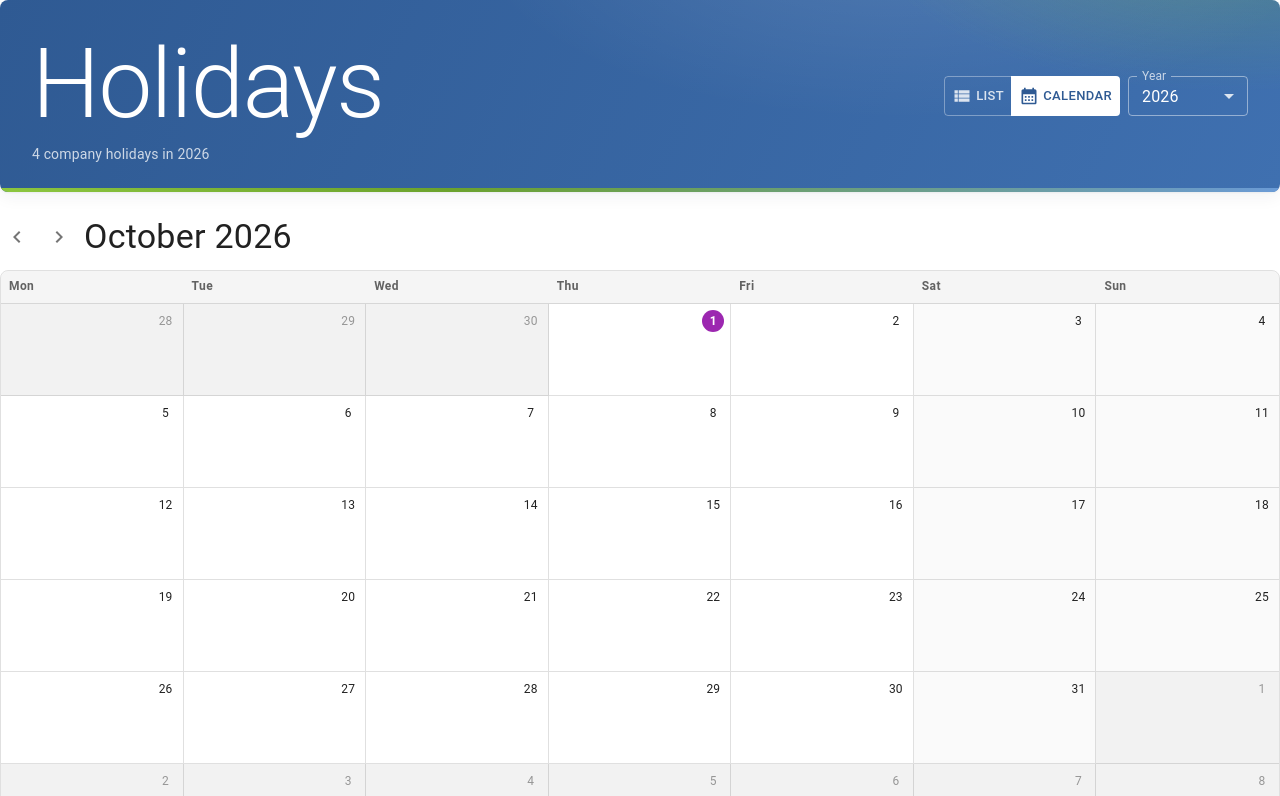
it: HolidaysPage month cards › shows two holidays and offers the rest
What coordinates should you click on to do the following:
click the button "List"
I would click on:
 (978, 96)
Its box is top-left (944, 76), bottom-right (1012, 116).
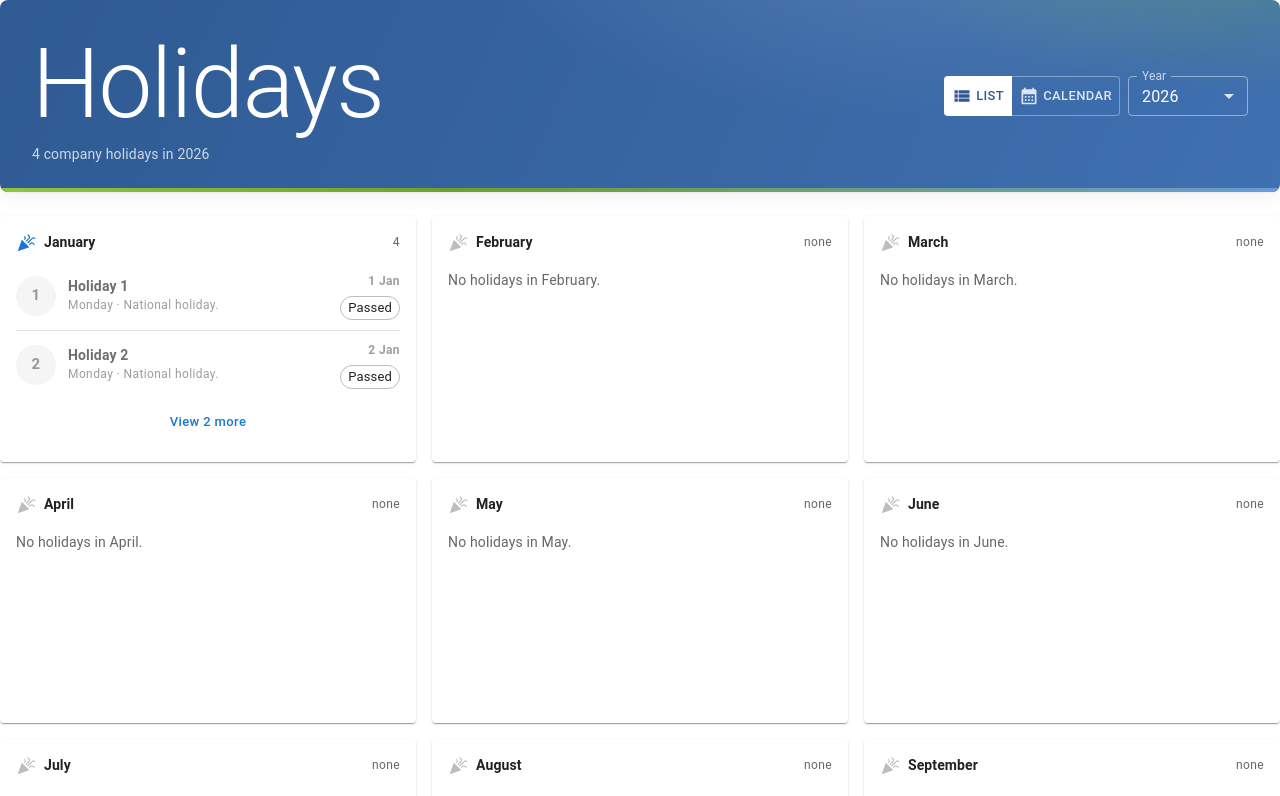
Now the text "Holiday 1" is shown, box top-left (68, 276), bottom-right (128, 296)
Now the text "Holiday 2" is shown, box top-left (68, 345), bottom-right (128, 365)
Now the button "View 2 more" is shown, box top-left (16, 407), bottom-right (400, 438)
